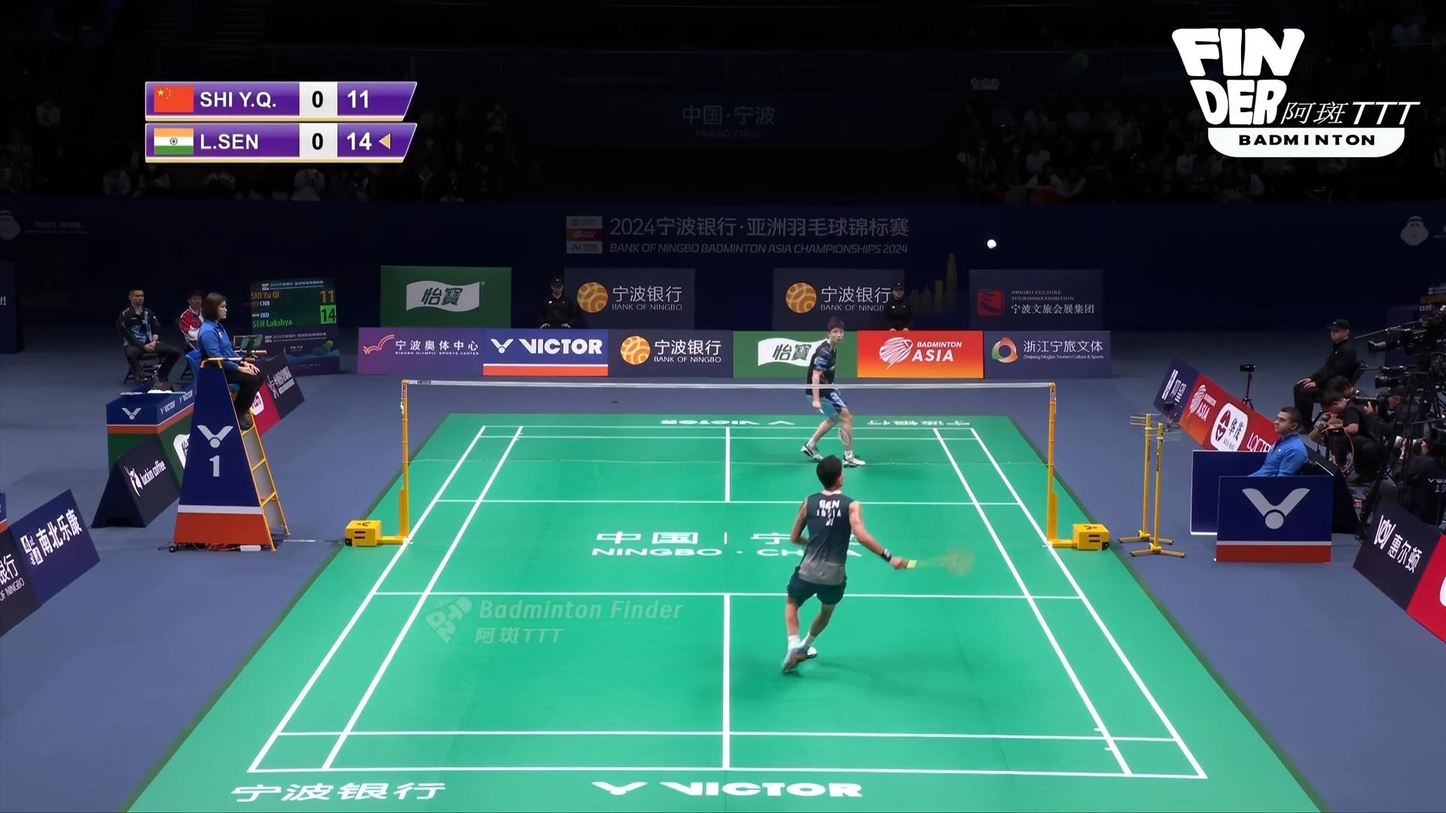player: (783, 456, 908, 671), (802, 316, 868, 468)
shuttlecock: (987, 237, 996, 251)
